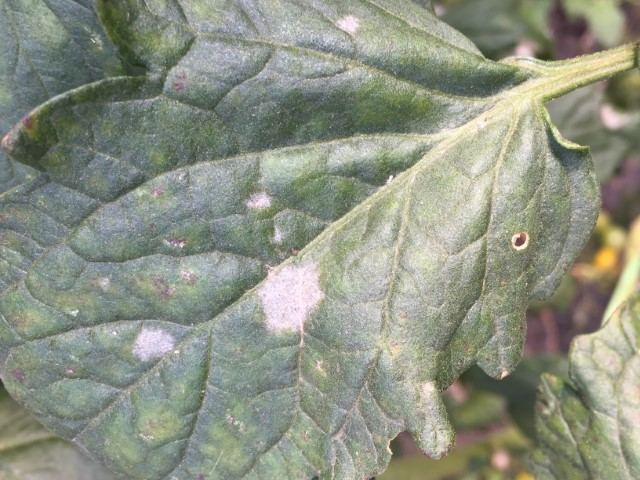oidio: (261, 260, 324, 334), (132, 326, 174, 365), (244, 190, 273, 212), (334, 13, 359, 32), (269, 224, 283, 245)
